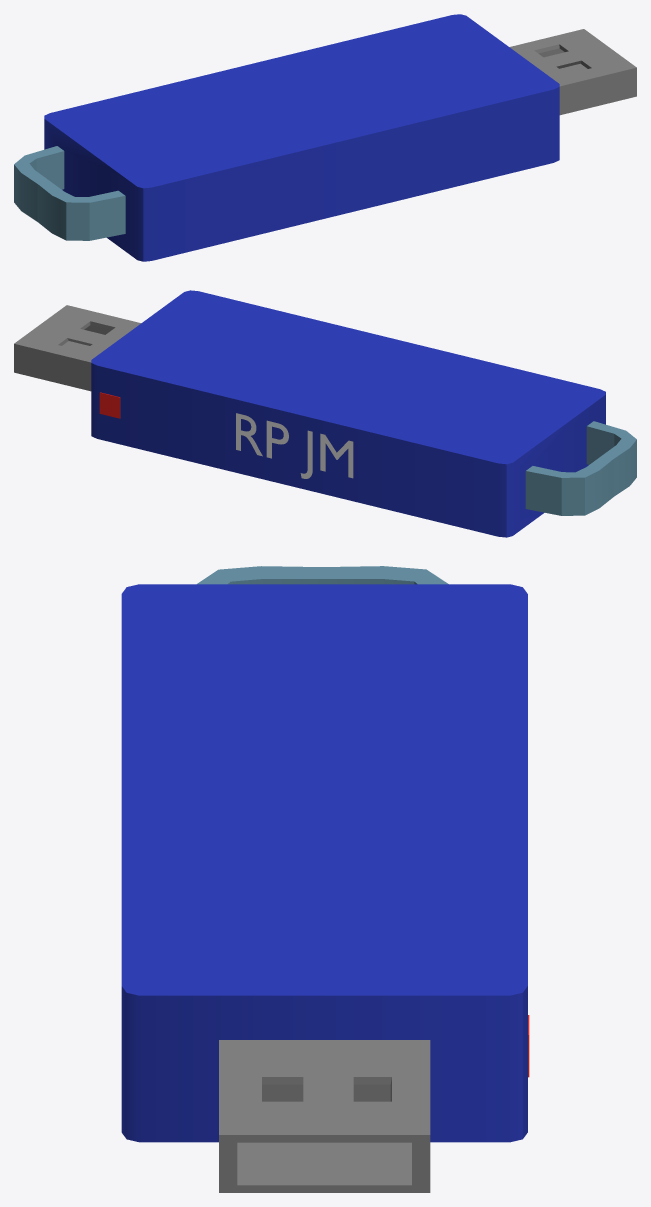
The model's file is Pendrive 2.fbx.
3 renders of one model, top to bottom at view 1: azimuth 30°, elevation 25°; view 2: azimuth 150°, elevation 25°; view 3: azimuth 270°, elevation 25°, orthographic. The views are drawn at different scales.
Parts seen in each view (by area): view 1: Cube.001; view 2: Cube.001; view 3: Cube.001.
Boxes of the visible parts, box(x1,y1,x2,y2) form: Cube.001: box(14, 14, 636, 261); Cube.001: box(14, 290, 636, 537); Cube.001: box(121, 566, 529, 1192).
Size of the model in its own units: 652 by 79.65 by 201.
